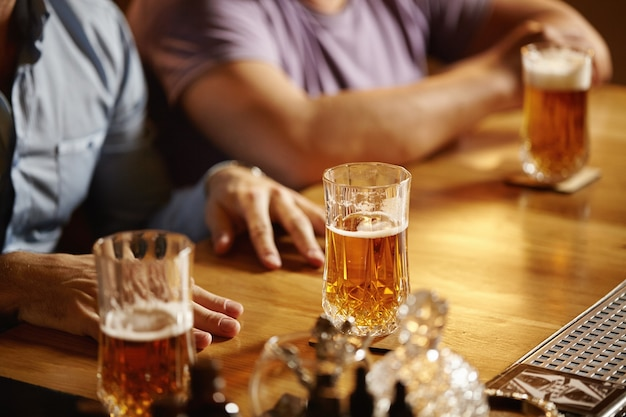alcohol: (92, 232, 200, 417), (323, 161, 414, 339), (519, 37, 602, 190)
